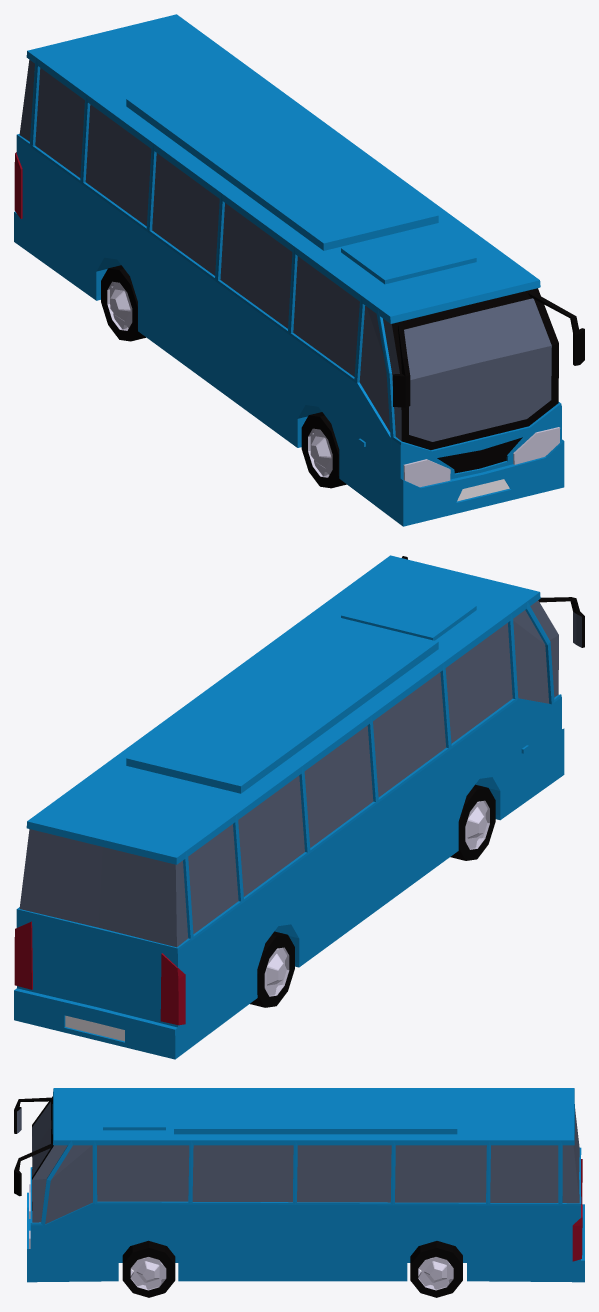
File: Bus.gltf
3 renders of one model, top to bottom at view 1: azimuth 30°, elevation 25°; view 2: azimuth 150°, elevation 25°; view 3: azimuth 270°, elevation 25°, orthographic. The views are drawn at different scales.
Parts seen in each view (by area): view 1: Bus, Bus_wheel_front_right, Bus_wheel_rear_right; view 2: Bus, Bus_wheel_rear_right, Bus_wheel_front_right; view 3: Bus, Bus_wheel_front_left, Bus_wheel_rear_left.
Boxes of the visible parts, <box> form: Bus: <box>14,14,584,526</box>; Bus_wheel_front_right: <box>301,412,346,488</box>; Bus_wheel_rear_right: <box>101,265,145,341</box>; Bus: <box>14,555,584,1059</box>; Bus_wheel_rear_right: <box>250,931,294,1007</box>; Bus_wheel_front_right: <box>450,784,495,860</box>; Bus: <box>14,1088,584,1282</box>; Bus_wheel_front_left: <box>122,1240,175,1297</box>; Bus_wheel_rear_left: <box>410,1241,462,1297</box>.
Size of the model in its own units: 381 by 427 by 1370.
